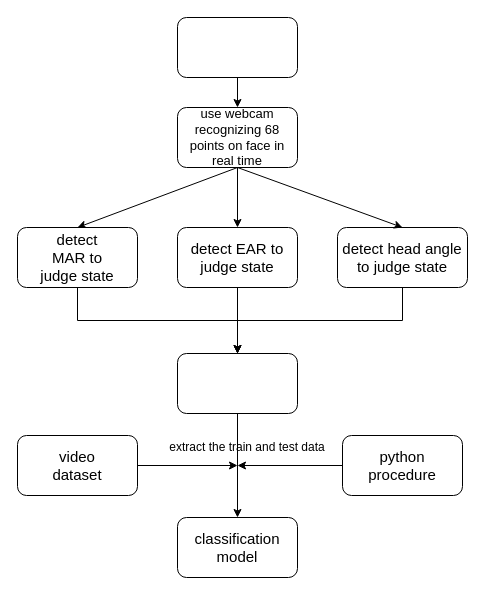
This 485x595 diagram has some shape labels left out. Here are the shapes that lost their labels. From the top down, the box of each, then its label:
(176, 16, 298, 78): detect drowsy driving
(176, 352, 298, 414): extract characteristic
